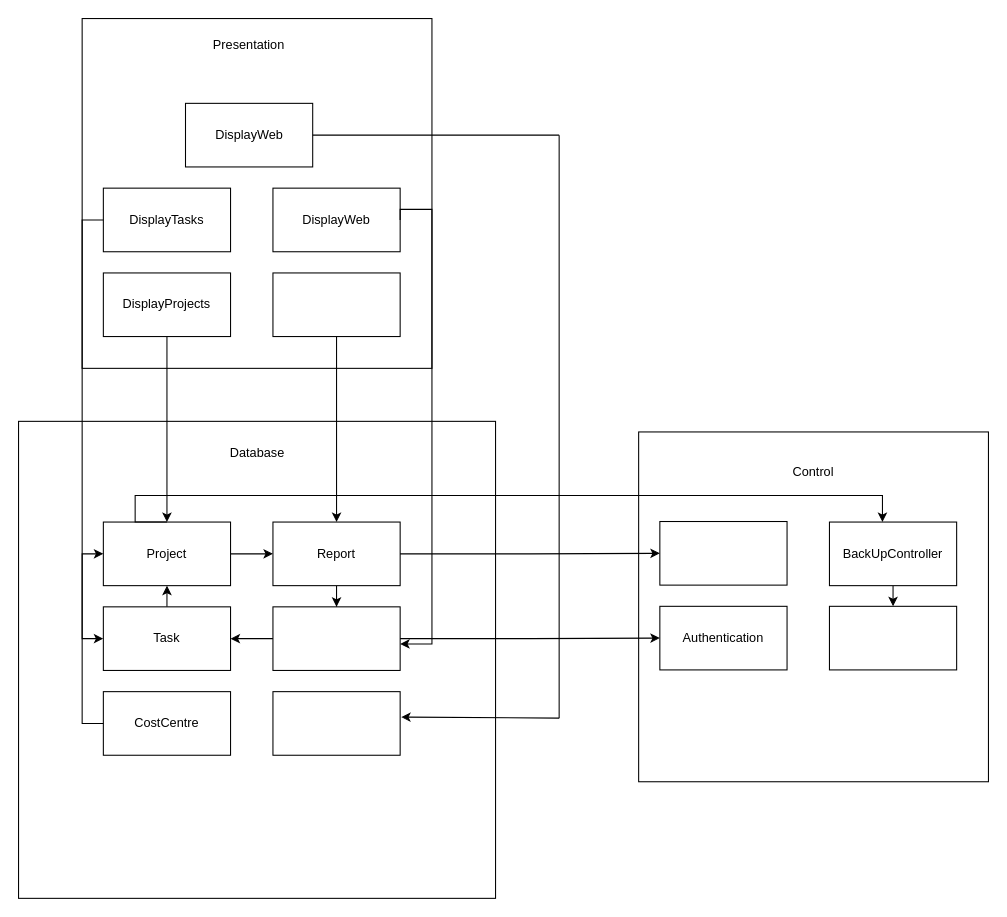
Some shapes in this 1007 by 917 pixel diagram are drawn without their labels. The shapes that lost their labels are listed below. From the top down, each one's centre as x and y in pixels, then its label:
At point 336,304: "DisplayReport".
At point 723,552: "ReportGenerator".
At point 336,638: "User".
At point 892,637: "DBDriver".
At point 336,723: "Administration".
